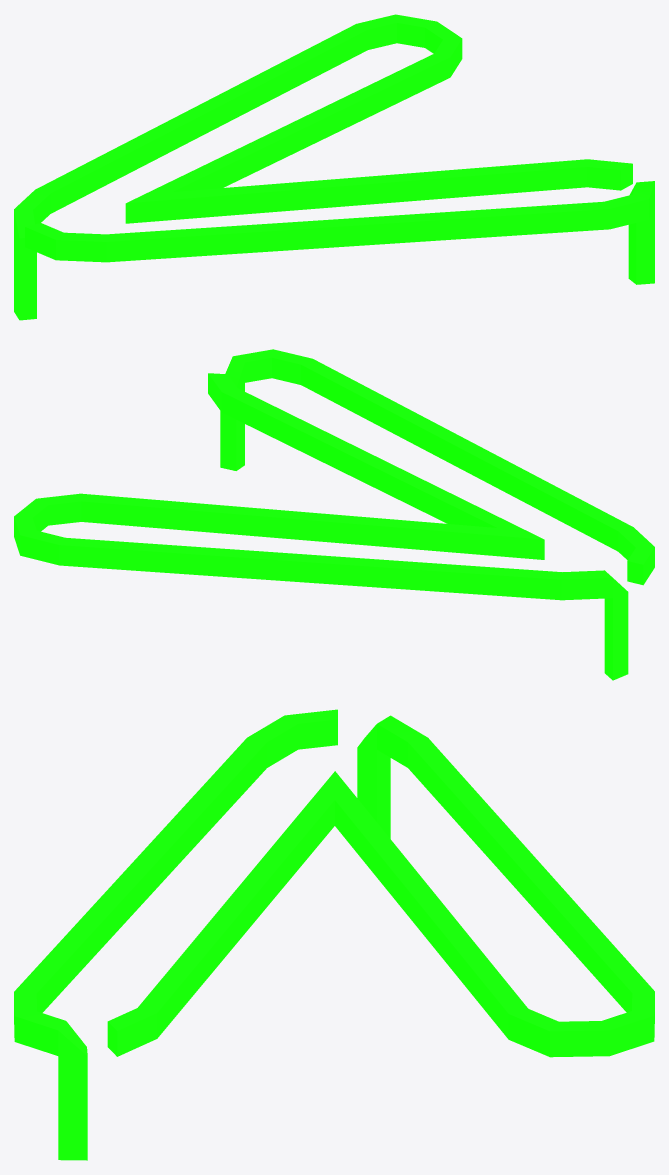
Rendered from Alphabet_3D_04_V.FBX.
3 renders of one model, top to bottom at view 1: azimuth 30°, elevation 25°; view 2: azimuth 150°, elevation 25°; view 3: azimuth 270°, elevation 25°, orthographic. The views are drawn at different scales.
Parts seen in each view (by area): view 1: Alphabet_3D_04_V; view 2: Alphabet_3D_04_V; view 3: Alphabet_3D_04_V.
Part boxes in pixels (box(x1,y1,x2,y2)): Alphabet_3D_04_V: box(14, 14, 654, 320); Alphabet_3D_04_V: box(14, 349, 654, 680); Alphabet_3D_04_V: box(14, 709, 654, 1160).
Size of the model in its own units: 67.23 by 12.63 by 56.58.
